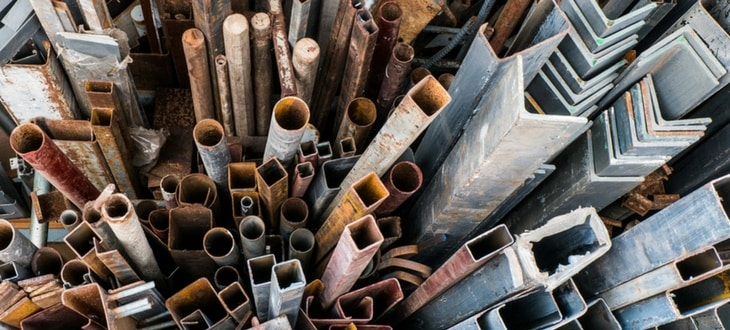metal: (425, 11, 595, 279), (391, 194, 564, 330), (2, 119, 146, 268), (341, 52, 440, 256), (92, 176, 192, 311), (83, 101, 165, 247), (159, 198, 253, 325), (324, 203, 387, 326), (163, 7, 221, 132), (211, 6, 262, 142), (331, 1, 381, 134), (257, 84, 313, 200), (185, 113, 246, 195), (283, 17, 326, 132), (197, 225, 253, 311), (247, 1, 277, 135), (377, 24, 418, 118), (246, 154, 288, 243), (241, 247, 283, 326), (232, 205, 272, 277), (268, 254, 307, 326)
